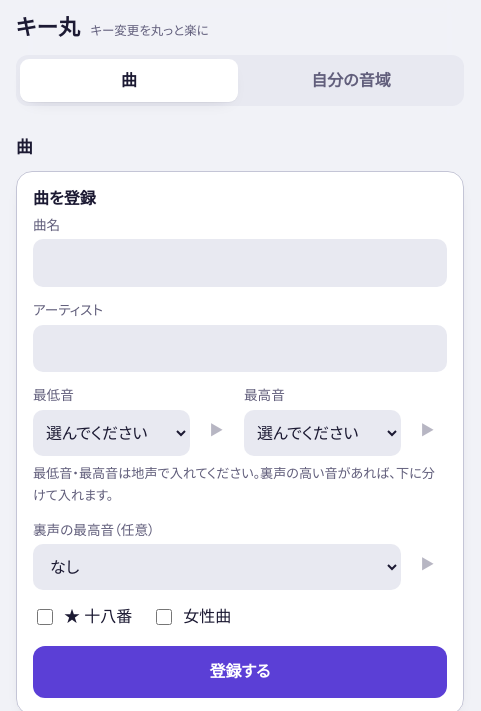
Test case: 自分の音域の図 › 音域の広さが1オクターブ未満なら「○半音」と出す
The image size is (481, 711).
Click the button "自分の音域" at point(351, 80), box [242,58,460,102]
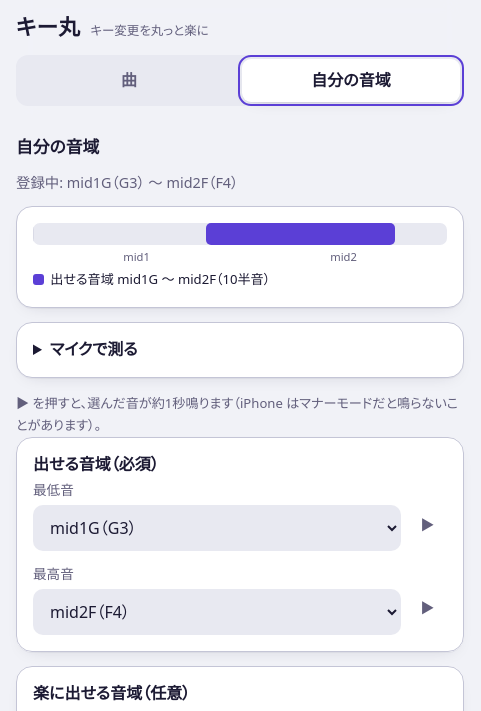
Now the text "出せる音域 mid1G 〜 mid2F（10半音）" is shown, box [33,270,270,288]
